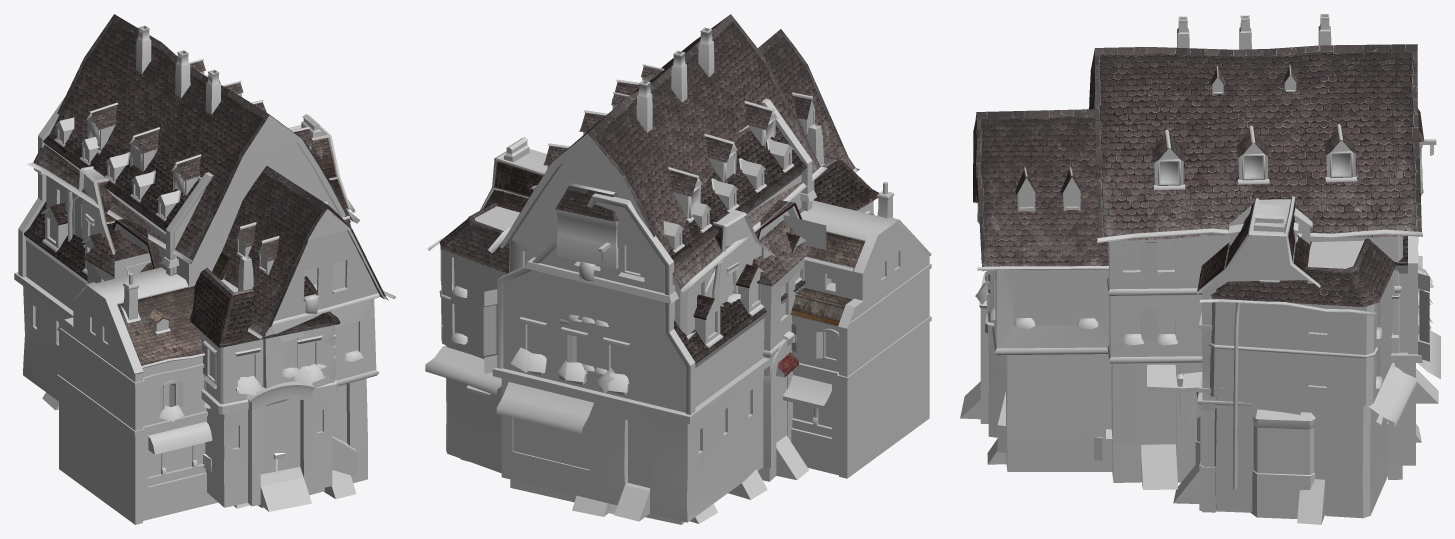
Rendered from tier03.gltf.
3 views of the same model, side by side, from view 1: azimuth 30°, elevation 25°; view 2: azimuth 150°, elevation 25°; view 3: azimuth 270°, elevation 25° (orthographic). The views are drawn at different scales.
Visible parts, largest first — view 1: _01_lod0, _03_lod0, _estate04_lod0, _04_lod0; view 2: _03_lod0, _01_lod0, _estate04_lod0, _04_lod0; view 3: _01_lod0, _estate04_lod0, _03_lod0.
Boxes of the visible parts, bbox=[...] form: _01_lod0: bbox=[27, 14, 395, 508]; _03_lod0: bbox=[14, 97, 356, 511]; _estate04_lod0: bbox=[42, 114, 350, 524]; _04_lod0: bbox=[112, 219, 161, 268]; _03_lod0: bbox=[483, 98, 879, 522]; _01_lod0: bbox=[425, 14, 859, 524]; _estate04_lod0: bbox=[460, 137, 931, 523]; _04_lod0: bbox=[755, 200, 802, 239]; _01_lod0: bbox=[973, 14, 1424, 524]; _estate04_lod0: bbox=[1088, 108, 1383, 518]; _03_lod0: bbox=[960, 87, 1440, 465].
Size of what is drawn, in the model's own units: 3.11 by 3.48 by 3.65.
